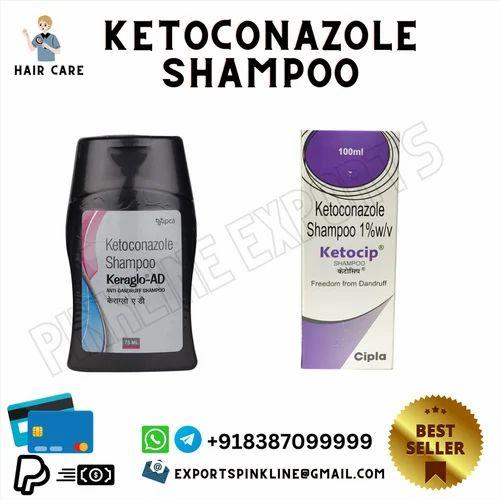KeraGlo: (70, 136, 197, 374)
